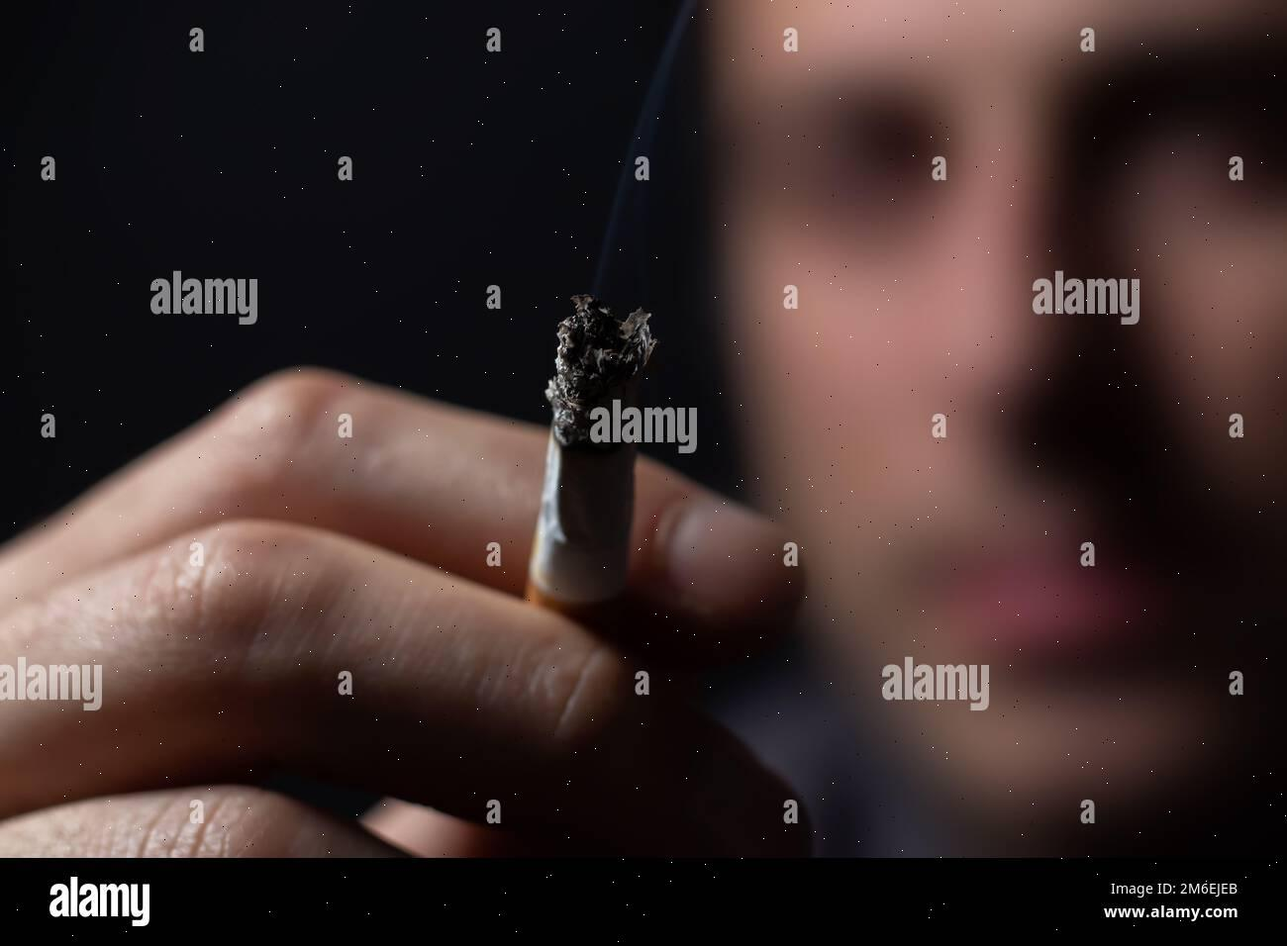cigarette: (526, 295, 654, 617)
